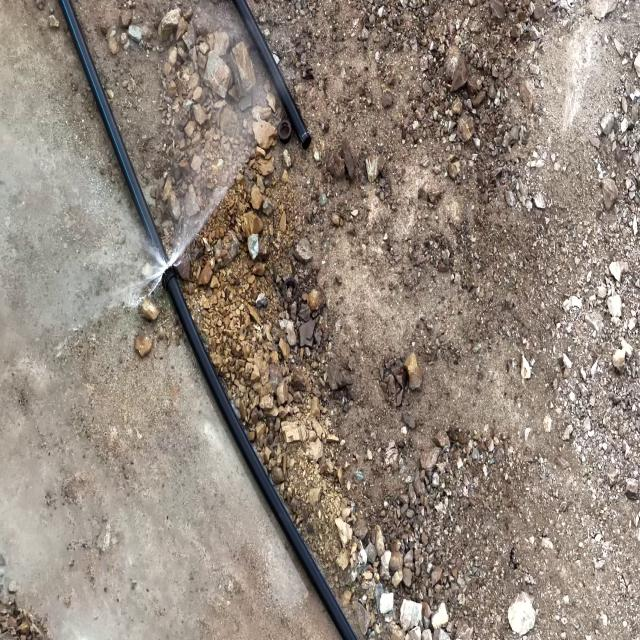leak: (82, 150, 262, 311)
